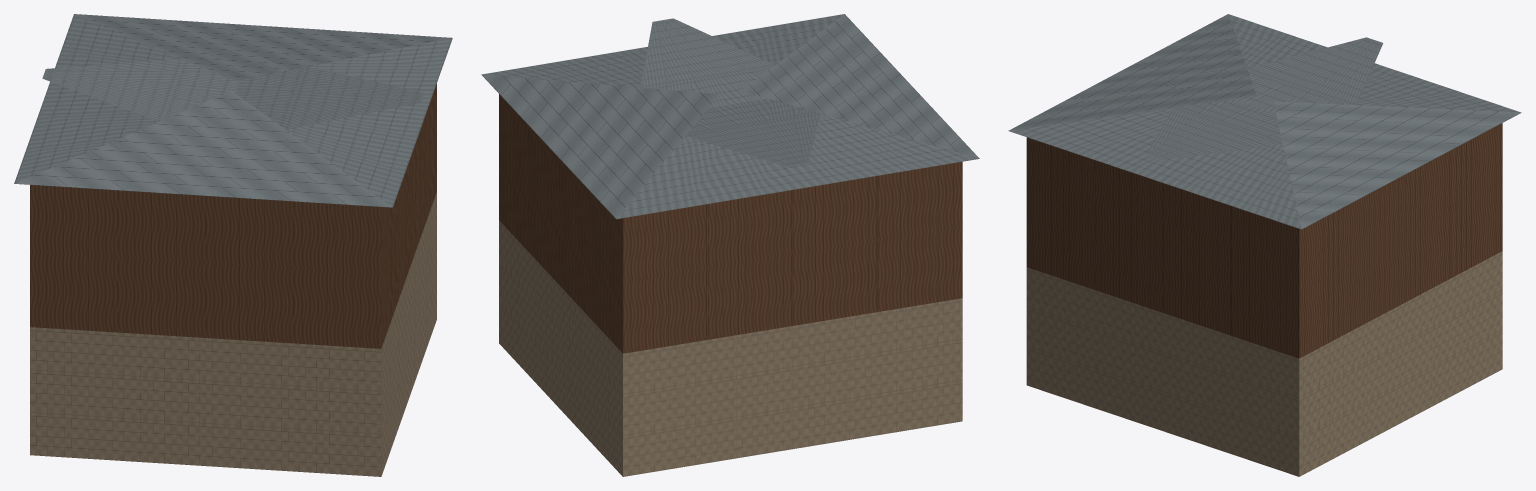
Rendered from bld_c1_16_469.gltf.
3 renders of one model, left to right at view 1: azimuth 30°, elevation 25°; view 2: azimuth 150°, elevation 25°; view 3: azimuth 270°, elevation 25°, orthographic. The views are drawn at different scales.
Visible parts, largest first — view 1: bld_c1_16_469; view 2: bld_c1_16_469; view 3: bld_c1_16_469.
Boxes of the visible parts, x1,y1,x2,y2 form: bld_c1_16_469: [14, 14, 452, 476]; bld_c1_16_469: [481, 14, 979, 476]; bld_c1_16_469: [1008, 14, 1521, 476].
Size of the model in its own units: 19.94 by 12 by 20.08.
Materials: 3 (3 with a texture image).
